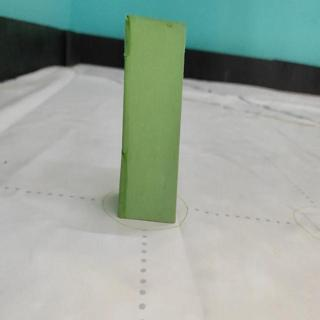greenbox: (117, 15, 188, 224)
